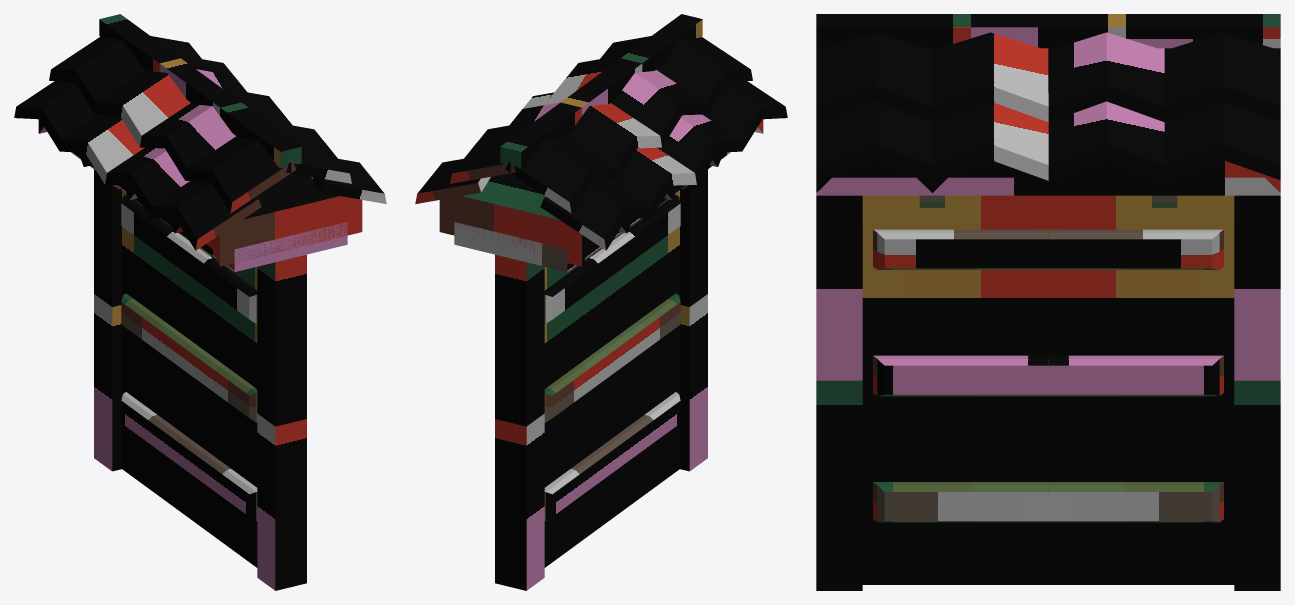
File: Gates.fbx
3 views of the same model, side by side, from view 1: azimuth 30°, elevation 25°; view 2: azimuth 150°, elevation 25°; view 3: azimuth 270°, elevation 25° (orthographic). The views are drawn at different scales.
Parts seen in each view (by area): view 1: Cube.007, Cube.002, Cube.001, Roof.005, Roof.004, Wall.002, Cube.006, Cube.003, Roof.007, Roof.006; view 2: Cube.002, Cube.007, Cube.006, Roof.005, Roof.004, Wall.002, Cube.001, Cube.003, Roof.007, Roof.006; view 3: Cube.007, Cube.002, Roof.007, Roof.006, Cube.001, Cube.006, Cube.003, Wall.002.
Boxes of the visible parts, bbox=[...] form: Cube.007: bbox=[121, 190, 194, 521]; Cube.002: bbox=[185, 245, 257, 567]; Cube.001: bbox=[257, 254, 306, 590]; Roof.005: bbox=[49, 36, 296, 213]; Roof.004: bbox=[14, 81, 261, 250]; Wall.002: bbox=[38, 119, 362, 271]; Cube.006: bbox=[94, 169, 121, 471]; Cube.003: bbox=[99, 14, 301, 168]; Roof.007: bbox=[151, 36, 351, 183]; Roof.006: bbox=[202, 59, 386, 203]; Cube.002: bbox=[607, 190, 680, 521]; Cube.007: bbox=[544, 245, 616, 567]; Cube.006: bbox=[495, 254, 544, 590]; Roof.005: bbox=[505, 36, 752, 213]; Roof.004: bbox=[540, 81, 787, 250]; Wall.002: bbox=[439, 119, 763, 271]; Cube.001: bbox=[680, 169, 707, 471]; Cube.003: bbox=[500, 14, 702, 168]; Roof.007: bbox=[450, 36, 650, 183]; Roof.006: bbox=[415, 59, 599, 203]; Cube.007: bbox=[1048, 195, 1234, 584]; Cube.002: bbox=[862, 195, 1048, 584]; Roof.007: bbox=[816, 32, 1280, 122]; Roof.006: bbox=[816, 101, 1280, 180]; Cube.001: bbox=[816, 195, 862, 590]; Cube.006: bbox=[1234, 195, 1280, 590]; Cube.003: bbox=[816, 14, 1280, 48]; Wall.002: bbox=[816, 160, 1280, 207].
Bounding box in the file's own units: 122 × 267 × 200.
